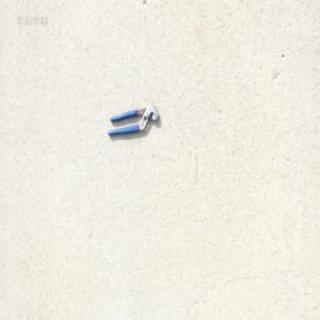Pliertrack_idkeyframe: (106, 102, 159, 138)
